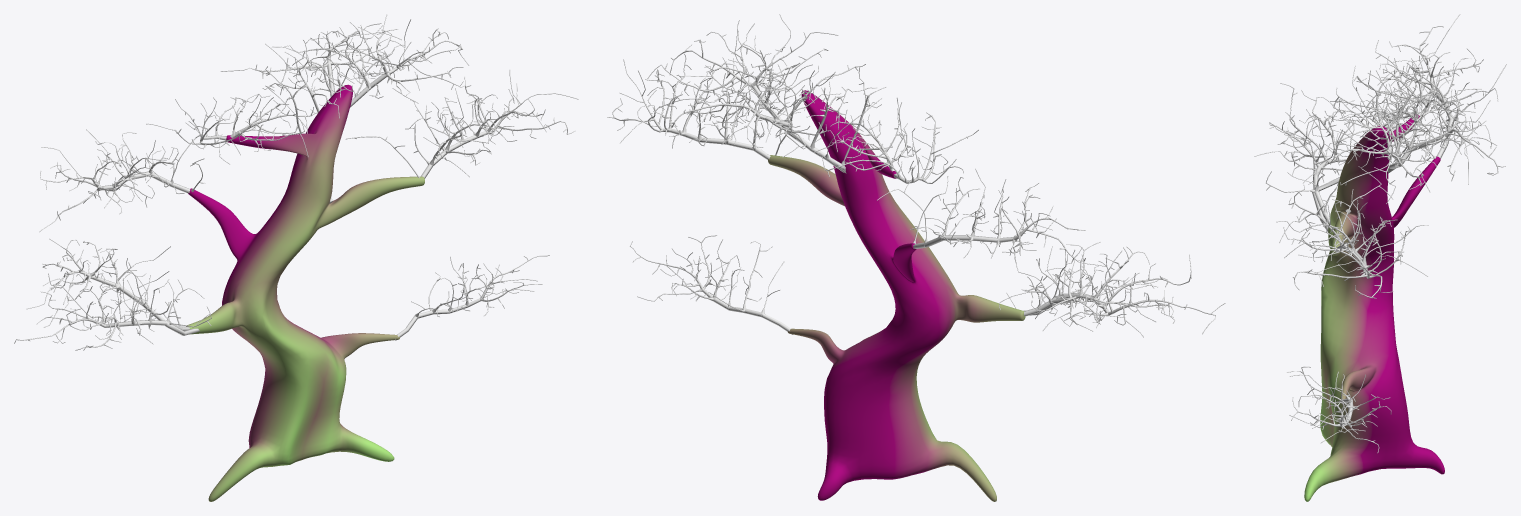
The model's file is age-v01.glb.
3 views of the same model, side by side, from view 1: azimuth 30°, elevation 25°; view 2: azimuth 150°, elevation 25°; view 3: azimuth 270°, elevation 25° (orthographic). The views are drawn at different scales.
Visible parts, largest first — view 1: Continuous aged trunk and primary branches, Terminal twig hierarchy; view 2: Continuous aged trunk and primary branches, Terminal twig hierarchy; view 3: Continuous aged trunk and primary branches, Terminal twig hierarchy.
Part boxes in pixels (x1,y1,x2,y2): Continuous aged trunk and primary branches: (186, 84, 424, 501); Terminal twig hierarchy: (14, 14, 578, 350); Continuous aged trunk and primary branches: (768, 90, 1025, 501); Terminal twig hierarchy: (607, 14, 1225, 337); Continuous aged trunk and primary branches: (1304, 114, 1444, 501); Terminal twig hierarchy: (1254, 14, 1506, 453).
Size of the model in its own units: 2.71 by 1.92 by 1.01.
